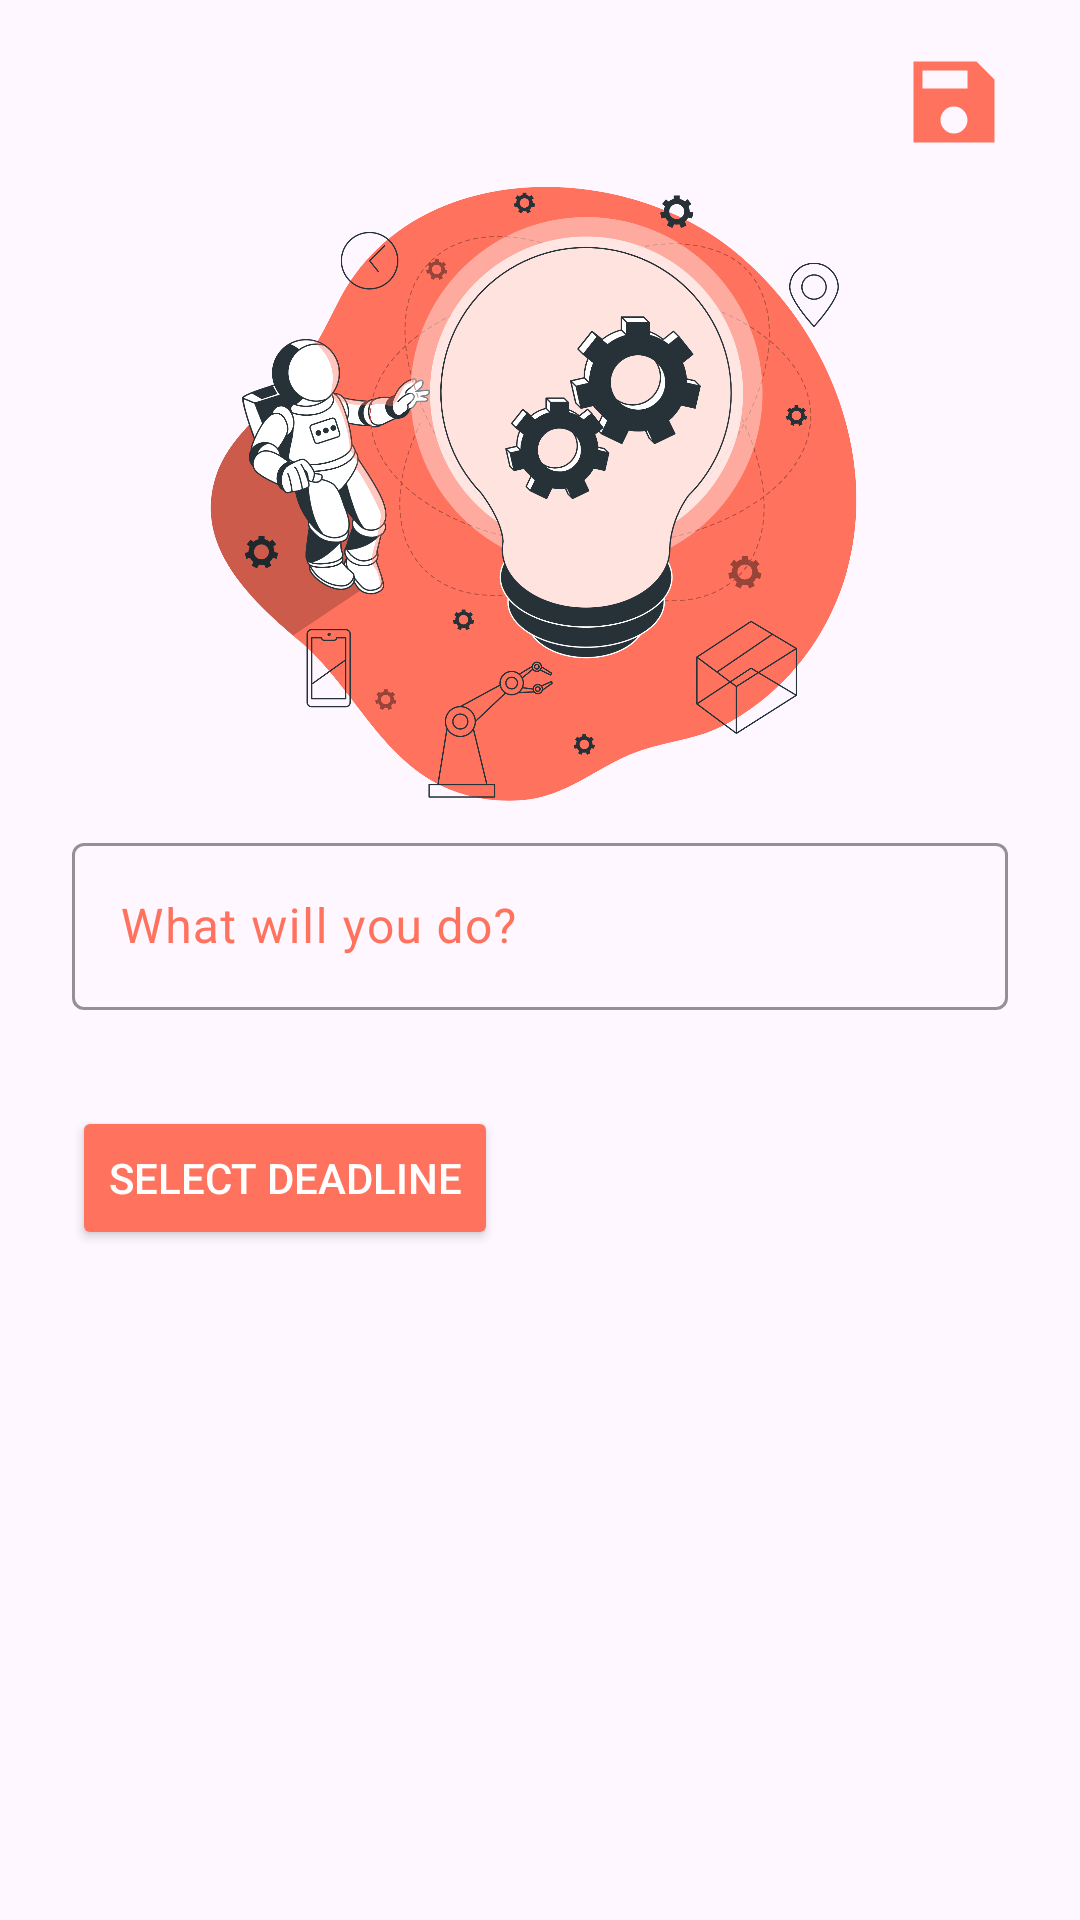

Point at icon controls on the screen. Image size 1080px×1920px, points as [x,y].
save: [954,102]
